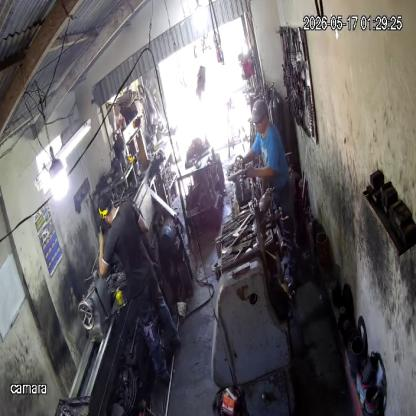lentes: (248, 114, 267, 130)
